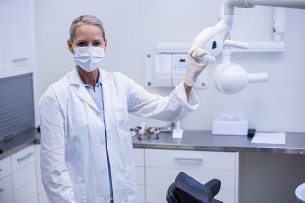face_mask: (73, 27, 103, 71)
